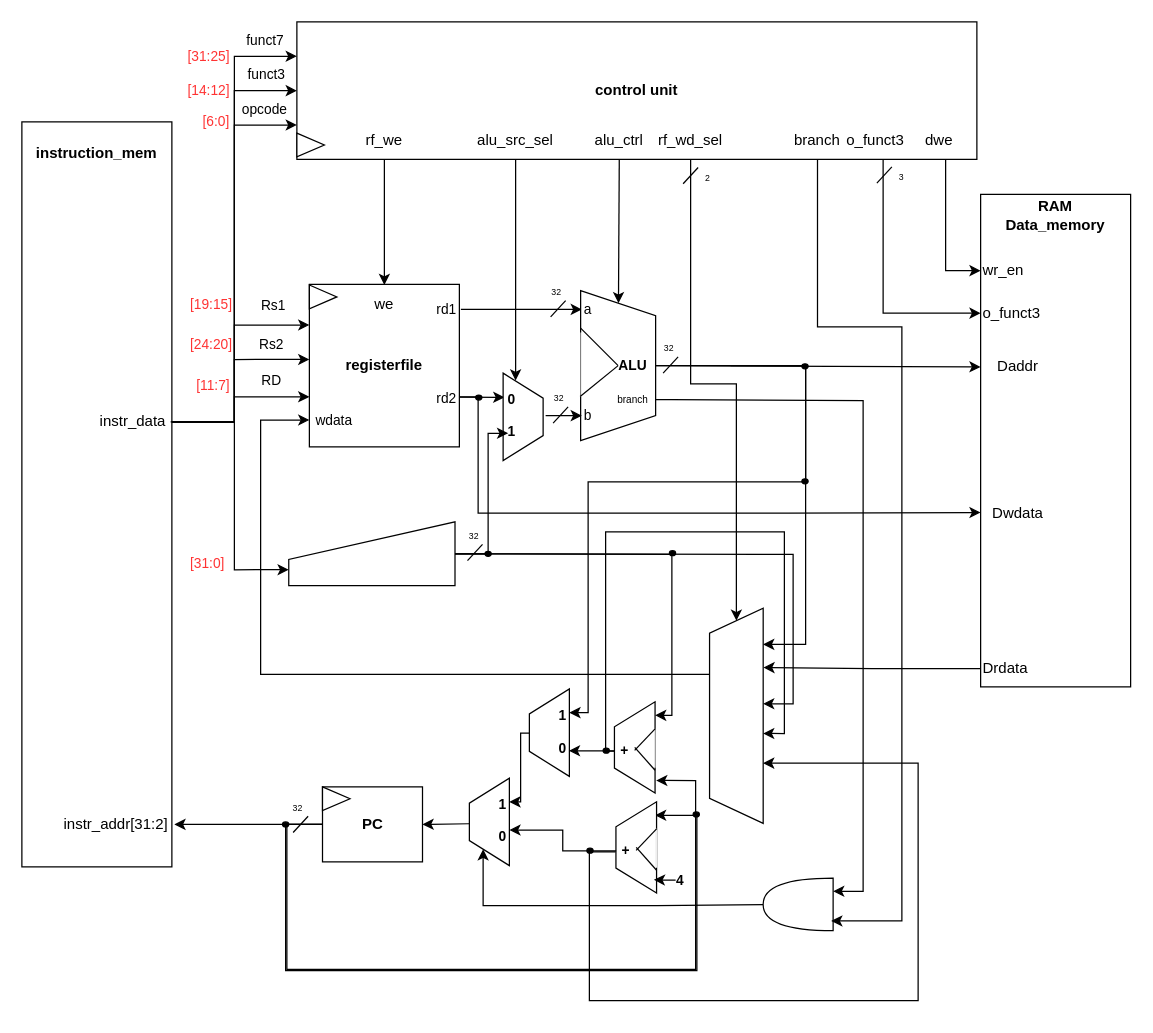
This 1153x1033 diagram has some shape labels left out. Here are the shapes that lost their labels. From the top down, the centre of each, then its label:
the point at 371,553: imm extender
the point at 735,715: ALU 0 dmem 1 imm 2 imm+pc 3 pc+4 4
